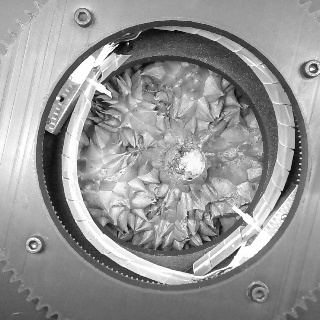base: (158, 139, 203, 175)
end: (178, 148, 206, 182)
